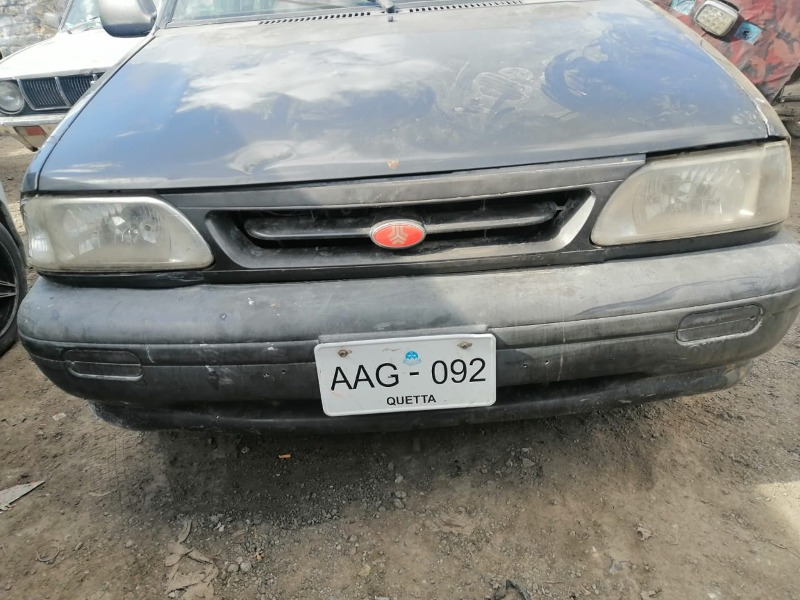License Plate: (310, 331, 499, 414)
